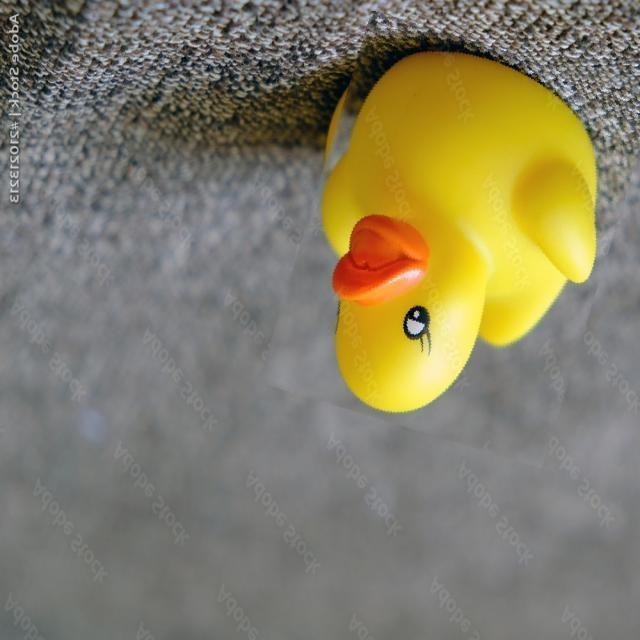rubber-duck: (320, 50, 595, 410), (290, 291, 330, 337)
